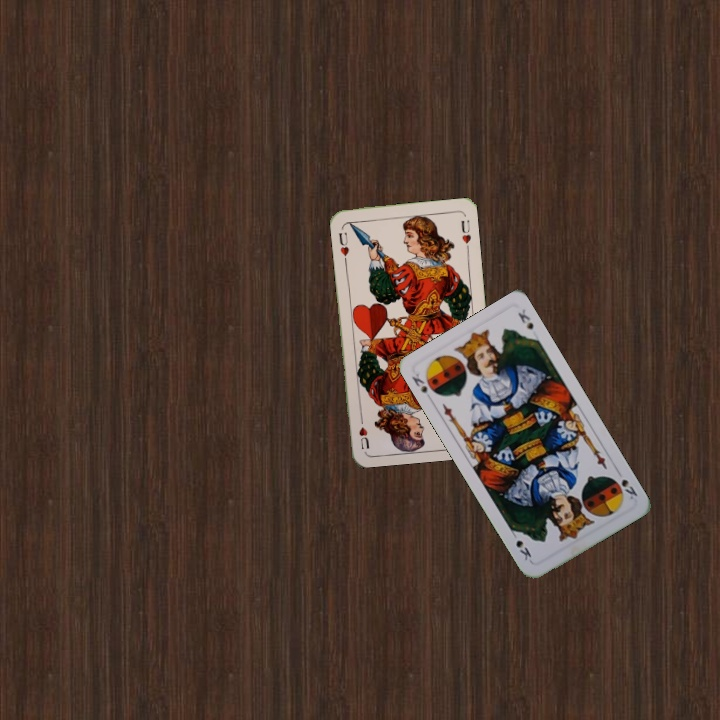HU: (335, 228, 352, 264)
SK: (609, 474, 640, 502), (408, 369, 430, 397)
